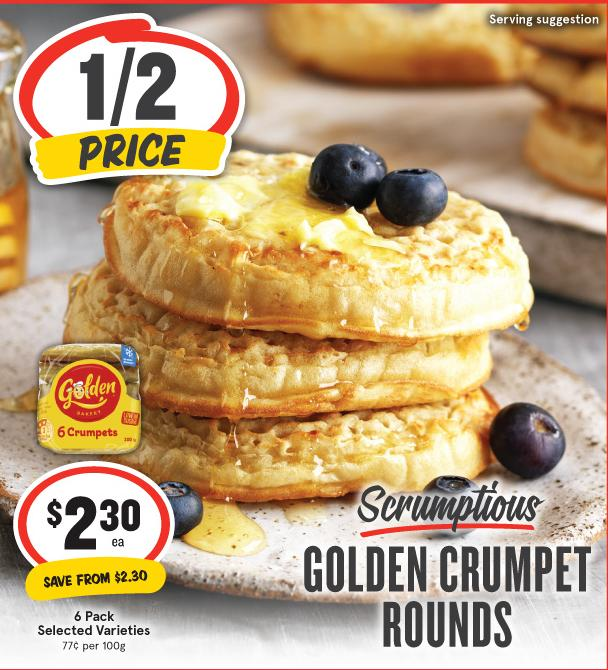description_block: (30, 608, 168, 642)
price_main: (28, 478, 155, 558)
product_image_block: (31, 158, 550, 481)
promo_text_block: (27, 565, 166, 598)
unit_price_block: (49, 638, 134, 658)
